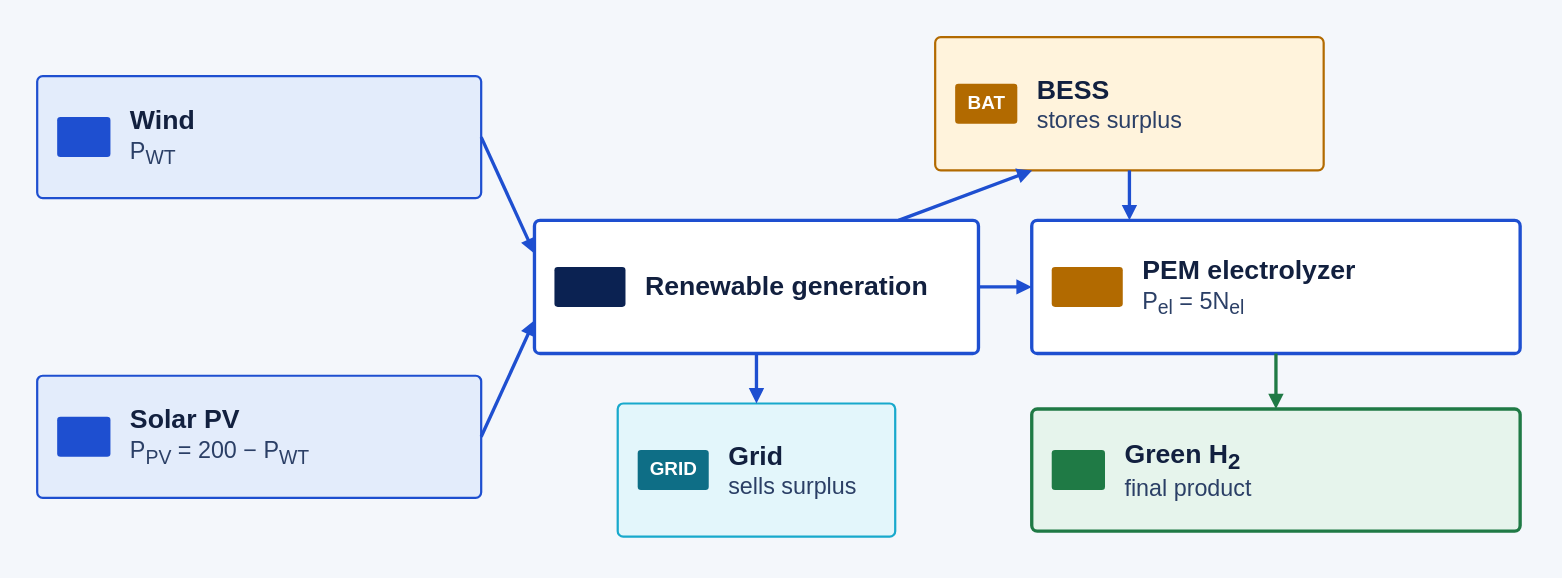
Image size: 1562x578. Some labels were removed from this diagram. Here are the shapes that lost their labels. From the top down, the centre of each, then its label:
the point at 83,137: WT
the point at 589,286: GEN
the point at 1086,286: PEM
the point at 83,436: PV
the point at 1077,470: H2
